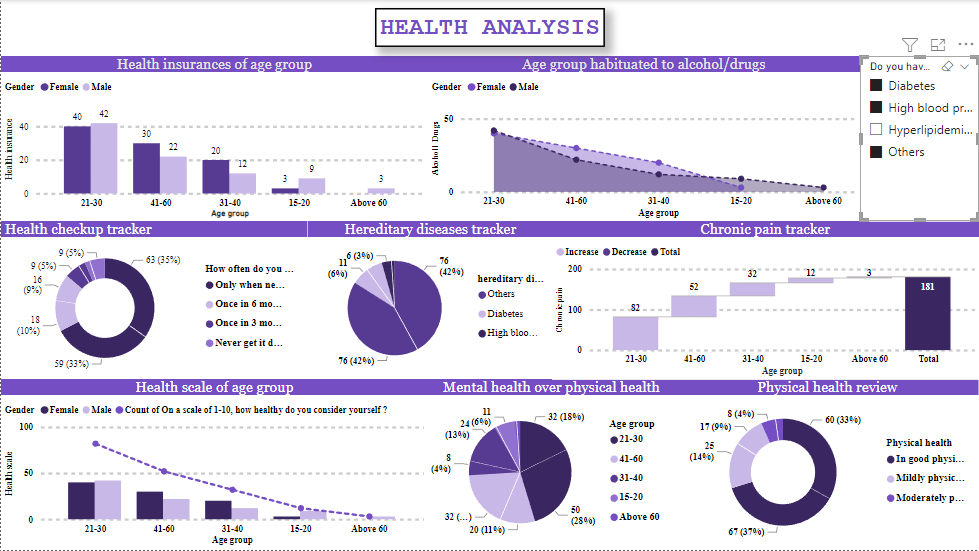

The page's visual inventory and layout, read from the dashboard file:
{"tool":"powerbi","page":{"name":"Page 2","canvas":[1280,720],"ordinal":1},"visuals":[{"type":"areaChart","title":"Age group habituated to alcohol/drugs ","fields":{"Category":["Health Analysis.Age group"],"Y":["CountNonNull(Health Analysis.Are you habituated to alcohol/drugs ?)"],"Series":["Health Analysis.Gender"]},"box":[558.7,72.8,565.5,216.7],"z":0},{"type":"slicer","fields":{"Values":["Health Analysis.Do you have any hereditary conditions/ diseases ?"]},"box":[1124.2,72.8,155.8,216.7],"z":1000},{"type":"clusteredColumnChart","title":"Health insurances of age group","fields":{"Series":["Health Analysis.Gender"],"Category":["Health Analysis.Age group"],"Y":["CountNonNull(Health Analysis.Do you have a health insurance ? )"]},"box":[0,72.8,558.7,216.7],"z":2000},{"type":"pieChart","title":"Hereditary diseases tracker","fields":{"Series":["Health Analysis.Gender"],"Category":["Health Analysis.Do you have any hereditary conditions/ diseases ?"],"Y":["CountNonNull(Health Analysis.Gender)"]},"box":[401.3,289.5,320,206.6],"z":3000},{"type":"donutChart","title":"Health checkup tracker","fields":{"Series":["Health Analysis.Gender"],"Y":["CountNonNull(Health Analysis.Gender)"],"Category":["Health Analysis.How often do you get a health checkup ? "]},"box":[0,289.5,401.3,206.6],"z":4000},{"type":"lineClusteredColumnComboChart","title":"Health scale of age group","fields":{"Category":["Health Analysis.Age group"],"Series":["Health Analysis.Gender"],"Y":["CountNonNull(Health Analysis.On a scale of 1-10, how healthy do you consider yourself ?)"],"Y2":["CountNonNull(Health Analysis.On a scale of 1-10, how healthy do you consider yourself ?)"]},"box":[0,496.1,558.7,223.5],"z":5000},{"type":"donutChart","title":"Physical health review ","fields":{"Y":["CountNonNull(Health Analysis.Gender)"],"Series":["Health Analysis.Gender"],"Category":["Health Analysis.Would you say you are :"]},"box":[883.8,496.1,396.2,223.5],"z":6000},{"type":"pieChart","title":"Mental health over physical health","fields":{"Category":["Health Analysis.Age group"],"Y":["CountNonNull(Health Analysis.Does your mental well being has an affect on your physical health ?)"],"Series":["Health Analysis.Does your mental well being has an affect on your physical health ?"]},"box":[558.3,495.9,325.5,223],"z":7000},{"type":"waterfallChart","title":"Chronic pain tracker ","fields":{"Category":["Health Analysis.Age group"],"Y":["CountNonNull(Health Analysis.Do you experience any chronic pain ?)"]},"box":[721.3,289.5,558.7,208.3],"z":8000},{"type":"shape","box":[489,11.1,300.6,51.3],"z":9000}]}

Visuals, with their boxes in screenshot pixels (x1, y1, x2, y2), scaled from the page's 1280x720 canvas onto the 979x551 screenshot:
"Age group habituated to alcohol/drugs " areaChart: 427, 56, 860, 222
slicer - Health Analysis.Do you have any hereditary conditions/ diseases ?: 860, 56, 978, 222
"Health insurances of age group" clusteredColumnChart: 0, 56, 427, 222
"Hereditary diseases tracker" pieChart: 307, 222, 552, 380
"Health checkup tracker" donutChart: 0, 222, 307, 380
"Health scale of age group" lineClusteredColumnComboChart: 0, 380, 427, 550
"Physical health review " donutChart: 676, 380, 978, 550
"Mental health over physical health" pieChart: 427, 380, 676, 550
"Chronic pain tracker " waterfallChart: 552, 222, 978, 381
shape: 374, 8, 604, 48
